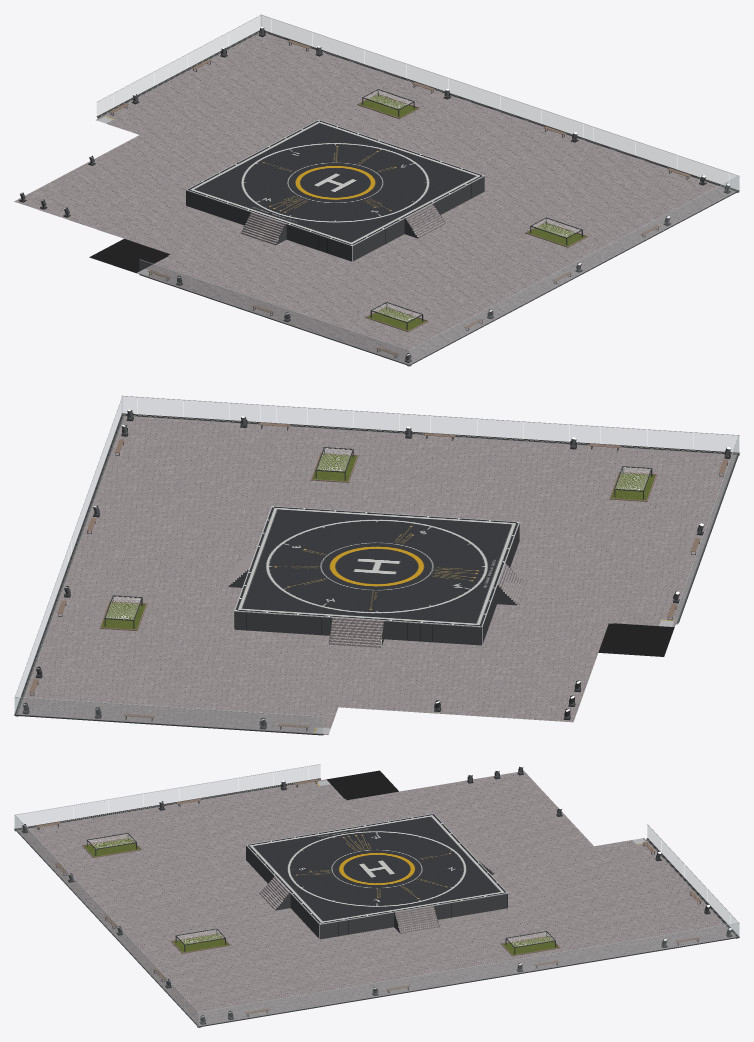
File: skyroof.glb
The picture shows the model from 3 angles, top to bottom: view 1: azimuth 30°, elevation 25°; view 2: azimuth 150°, elevation 25°; view 3: azimuth 270°, elevation 25°; orthographic projection. The views are drawn at different scales.
Visible parts, largest first — view 1: skyroof_ground_deck_c-1_-1, skyroof_ground_deck_c0_-1, skyroof_ground_deck_c-1_0, skyroof_ground_deck_c0_0, skyroof_ground_deck_c0_1, skyroof_ground_deck_c1_-1, skyroof_ground_deck_c-1_-2, skyroof_ground_deck_c0_-2, skyroof_ground_pad_c0_0, skyroof_ground_pad_c-1_-1, skyroof_ground_pad_c0_-1, skyroof_ground_pad_c-1_0 (+22 smaller); view 2: skyroof_ground_deck_c-1_0, skyroof_ground_deck_c-1_-1, skyroof_ground_deck_c0_0, skyroof_ground_deck_c0_-1, skyroof_ground_deck_c0_1, skyroof_ground_deck_c1_-1, skyroof_ground_deck_c-1_-2, skyroof_ground_deck_c0_-2, skyroof_ground_pad_c-1_-1, skyroof_ground_pad_c0_0, skyroof_ground_pad_c0_-1, skyroof_ground_pad_c-1_0 (+28 smaller); view 3: skyroof_ground_deck_c0_-1, skyroof_ground_deck_c0_0, skyroof_ground_deck_c-1_-1, skyroof_ground_deck_c-1_0, skyroof_ground_deck_c0_1, skyroof_ground_deck_c1_-1, skyroof_ground_deck_c-1_-2, skyroof_ground_deck_c0_-2, skyroof_ground_pad_c-1_-1, skyroof_ground_pad_c0_0, skyroof_ground_pad_c-1_0, skyroof_ground_pad_c0_-1 (+23 smaller).
Boxes of the visible parts, box(x1,y1,x2,y2) form: skyroof_ground_deck_c-1_-1: box(150, 223, 440, 317); skyroof_ground_deck_c0_-1: box(391, 154, 624, 275); skyroof_ground_deck_c-1_0: box(61, 122, 266, 241); skyroof_ground_deck_c0_0: box(227, 79, 521, 167); skyroof_ground_deck_c0_1: box(173, 33, 399, 120); skyroof_ground_deck_c1_-1: box(519, 139, 735, 232); skyroof_ground_deck_c-1_-2: box(270, 276, 497, 364); skyroof_ground_deck_c0_-2: box(442, 232, 639, 317); skyroof_ground_pad_c0_0: box(275, 120, 428, 182); skyroof_ground_pad_c-1_-1: box(242, 183, 395, 244); skyroof_ground_pad_c0_-1: box(335, 157, 482, 222); skyroof_ground_pad_c-1_0: box(187, 143, 334, 207); skyroof_ground_deck_c-1_0: box(253, 613, 589, 716); skyroof_ground_deck_c-1_-1: box(468, 493, 704, 638); skyroof_ground_deck_c0_0: box(49, 531, 310, 678); skyroof_ground_deck_c0_-1: box(160, 440, 501, 552); skyroof_ground_deck_c0_1: box(18, 628, 251, 725); skyroof_ground_deck_c1_-1: box(89, 416, 286, 532); skyroof_ground_deck_c-1_-2: box(502, 445, 735, 543); skyroof_ground_deck_c0_-2: box(287, 427, 569, 493); skyroof_ground_pad_c-1_-1: box(377, 517, 518, 591); skyroof_ground_pad_c0_0: box(235, 541, 376, 615); skyroof_ground_pad_c0_-1: box(260, 506, 436, 566); skyroof_ground_pad_c-1_0: box(317, 566, 493, 626); skyroof_ground_deck_c0_-1: box(173, 883, 378, 970); skyroof_ground_deck_c0_0: box(375, 883, 580, 970); skyroof_ground_deck_c-1_-1: box(173, 797, 378, 885); skyroof_ground_deck_c-1_0: box(375, 797, 580, 885); skyroof_ground_deck_c0_1: box(577, 883, 735, 963); skyroof_ground_deck_c1_-1: box(173, 968, 378, 1026); skyroof_ground_deck_c-1_-2: box(18, 804, 176, 885); skyroof_ground_deck_c0_-2: box(67, 883, 176, 970); skyroof_ground_pad_c-1_-1: box(247, 824, 383, 873); skyroof_ground_pad_c0_0: box(370, 864, 506, 913); skyroof_ground_pad_c-1_0: box(371, 814, 482, 872); skyroof_ground_pad_c0_-1: box(272, 865, 382, 923).
Size of the model in its own units: 72.53 by 2.03 by 86.37.
20 materials, 6 textured.
